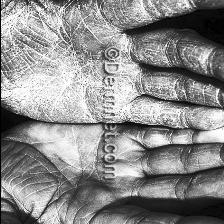Toxin: (32, 46, 78, 86)
